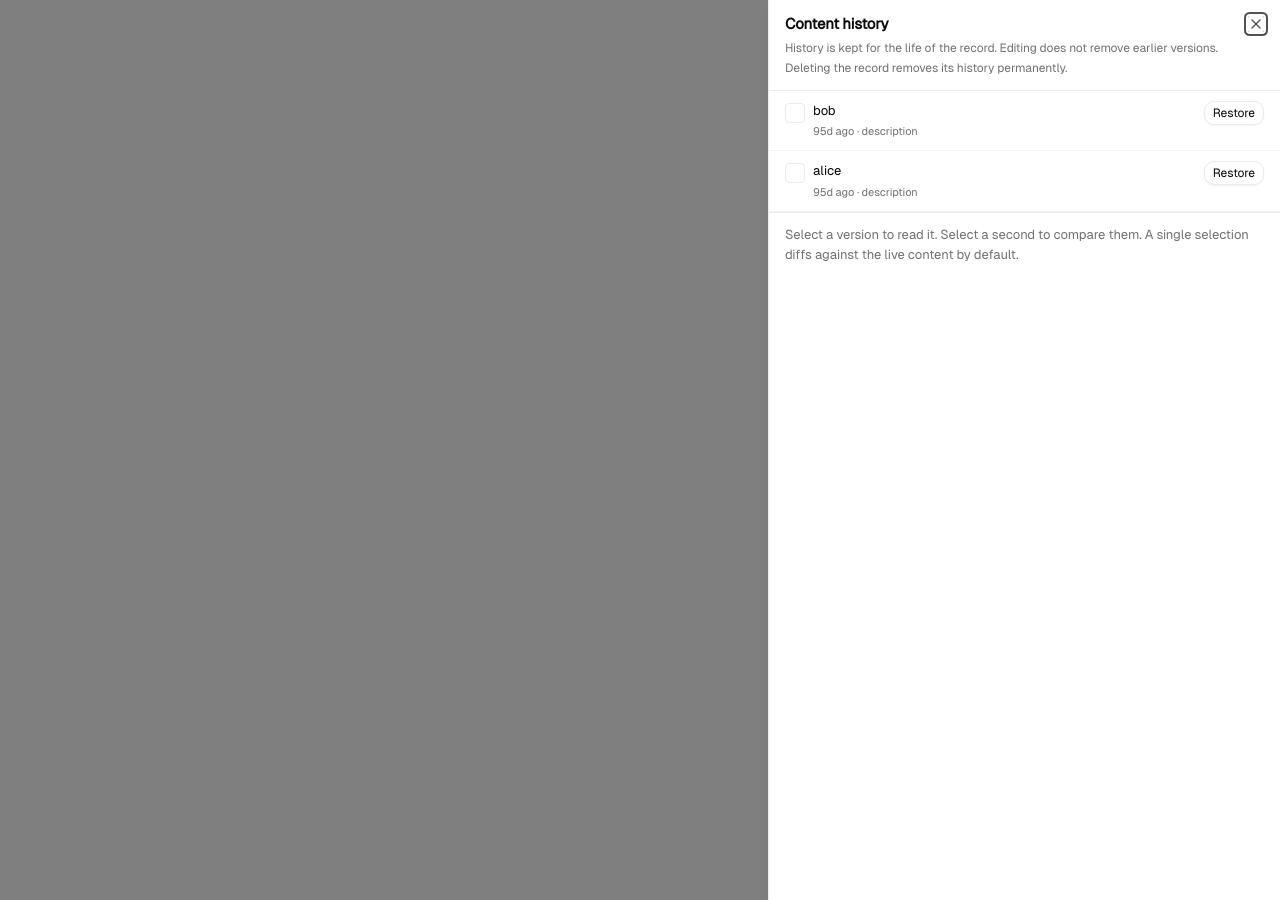
Test case: ContentHistoryPanel › selecting one renders content; selecting a second renders a diff
What coordinates should you click on to do the following:
click the text "bob"
I would click on:
 (824, 111)
Its box is [813, 103, 835, 118].
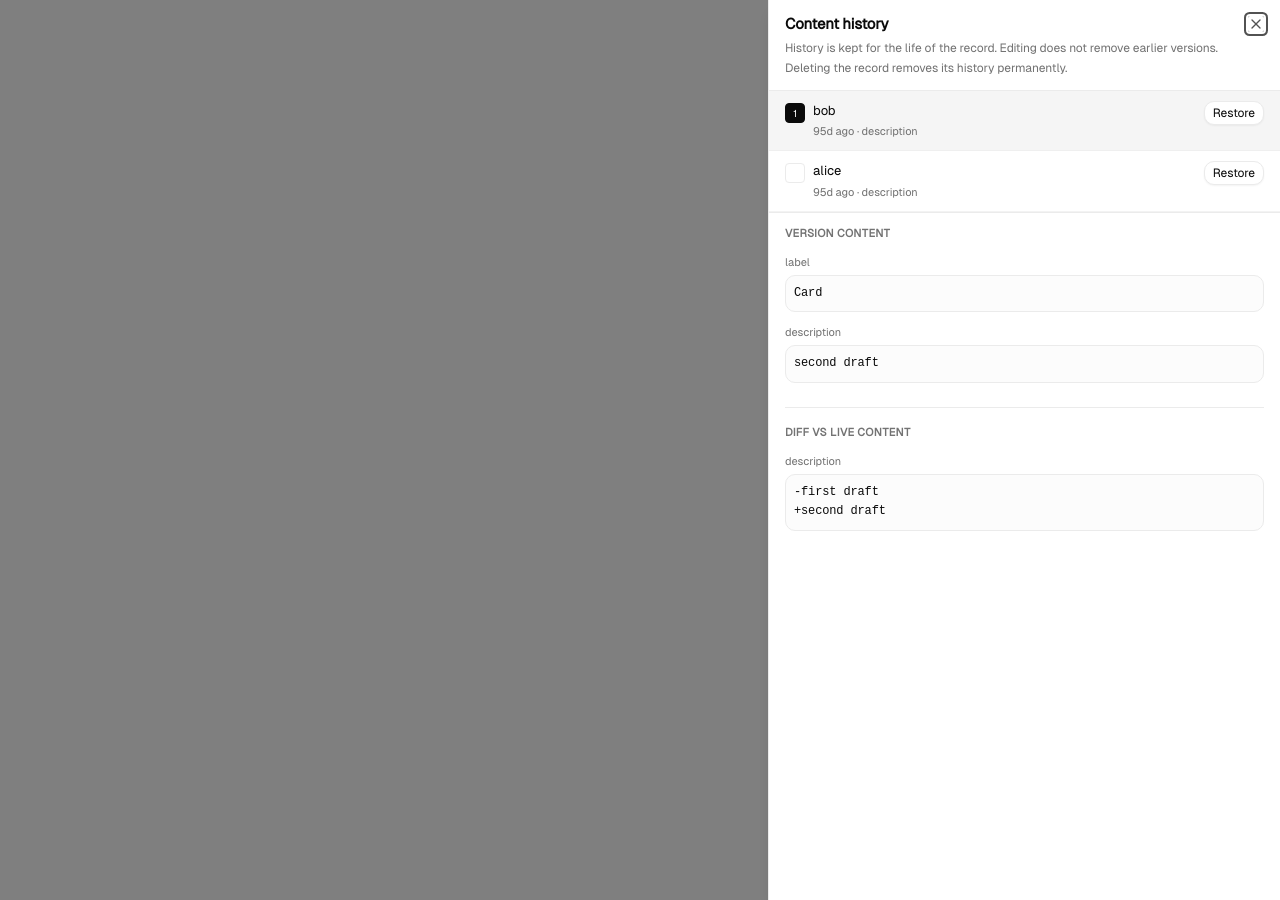
expect the element labelled "Version content" is shown: met, box [785, 225, 1264, 383]
expect the text "second draft" is shown: met, box [785, 345, 1264, 383]
What coordinates should you click on to do the following:
click the text "alice"
I would click on:
 (827, 171)
Its box is [813, 163, 841, 178].
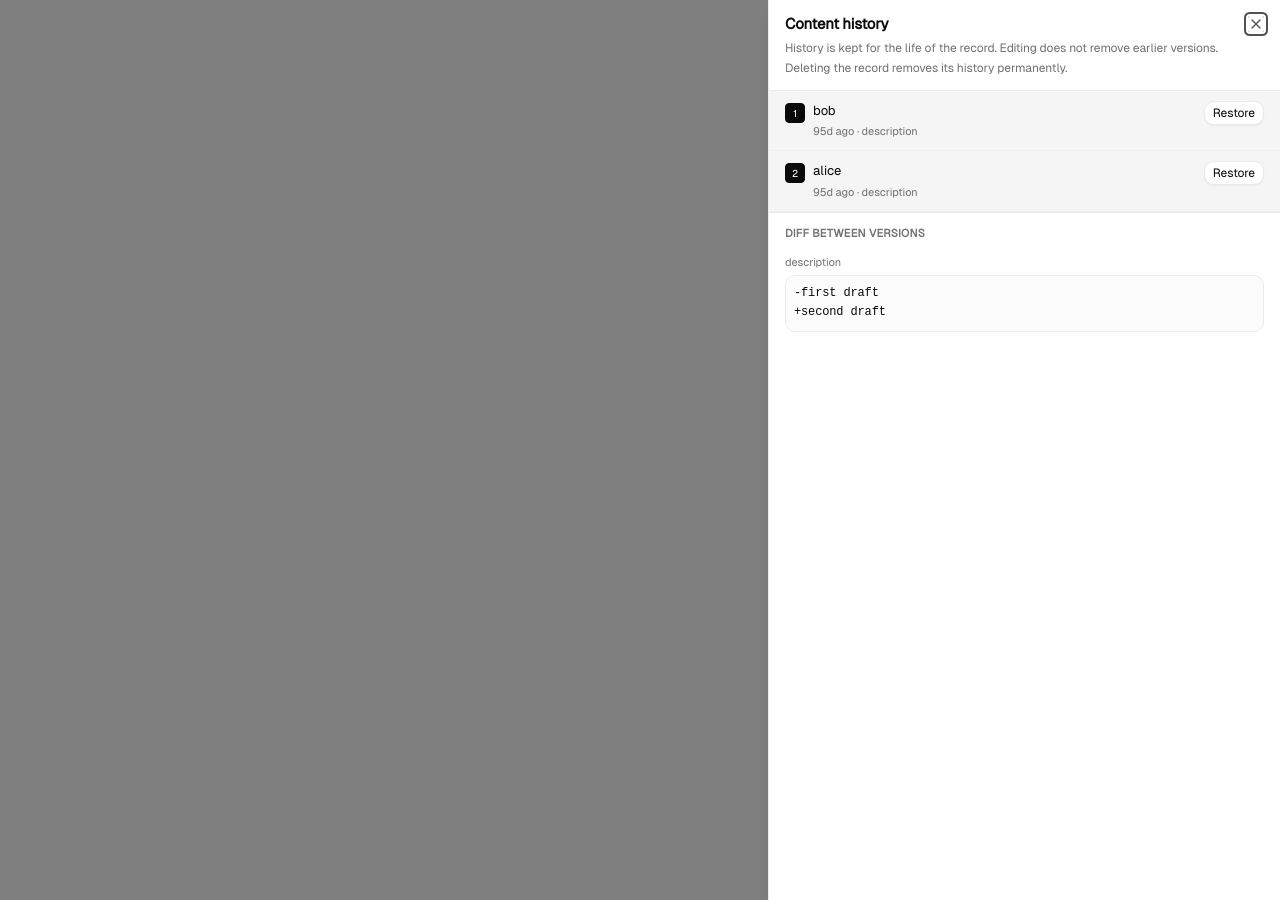
expect the element named "Content diff" is shown: met, box [785, 225, 1264, 332]
expect the heading labelled "Version content" is gone: met
expect the heading "Diff between versions" is shown: met, box [785, 227, 925, 239]
